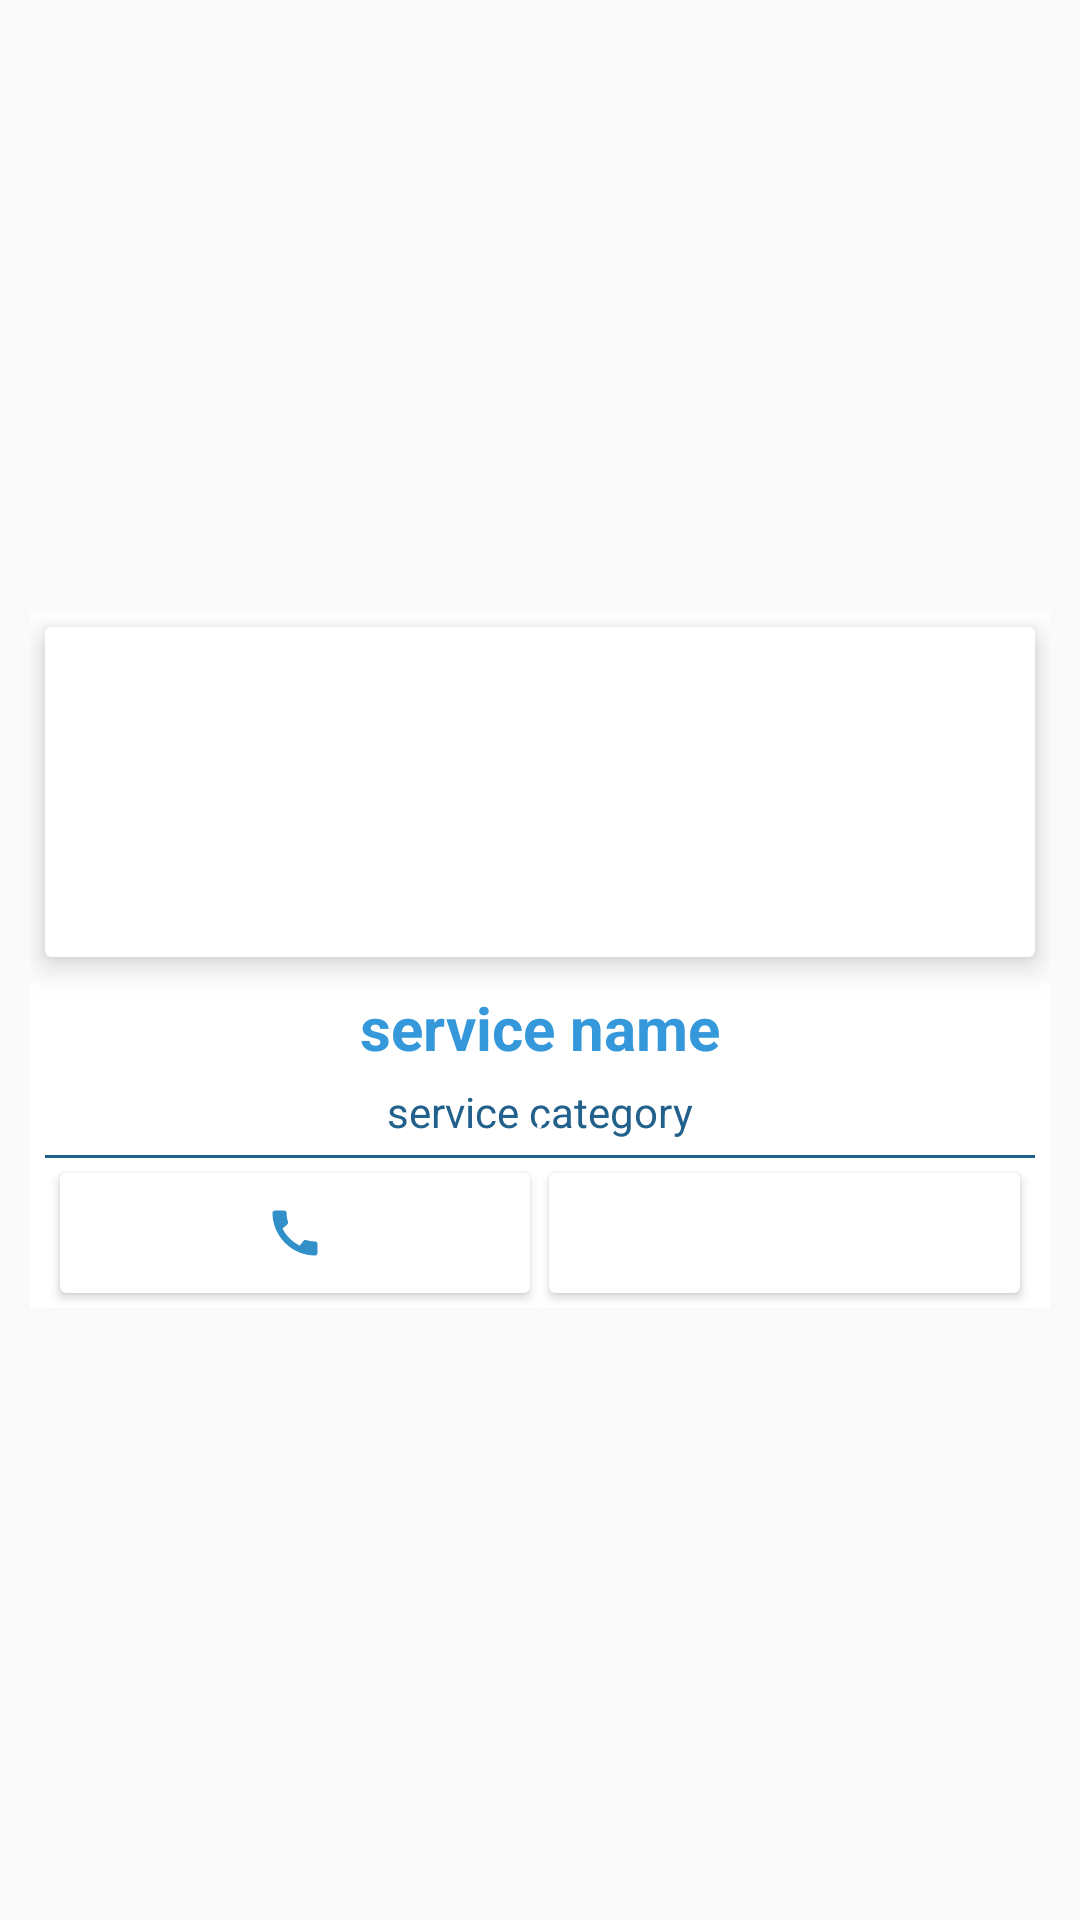

Point at icon controls on the screen. Image size 1080w x 1920h, points as point (x, y).
call: point (295, 1233)
